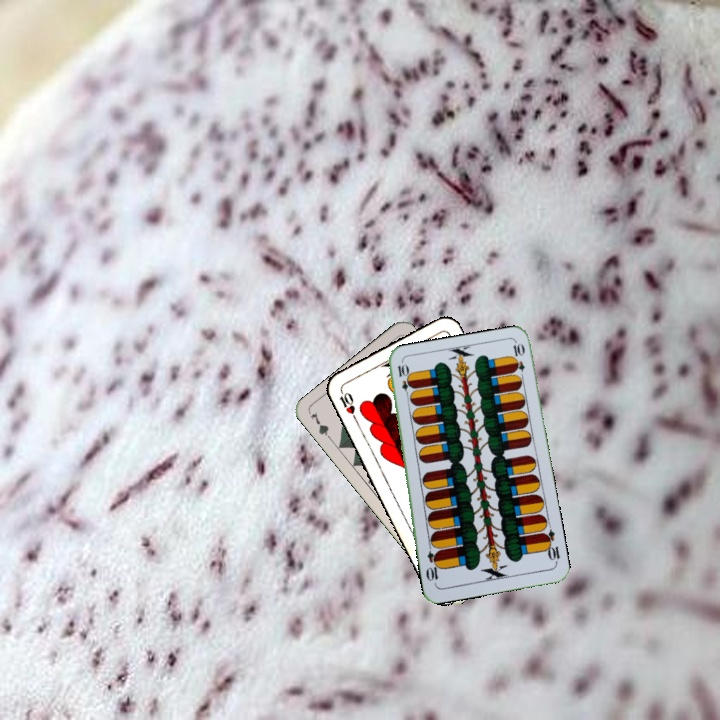E10: (539, 526, 562, 566), (393, 360, 413, 401)
G7: (306, 408, 336, 444)
H10: (335, 385, 359, 423)
